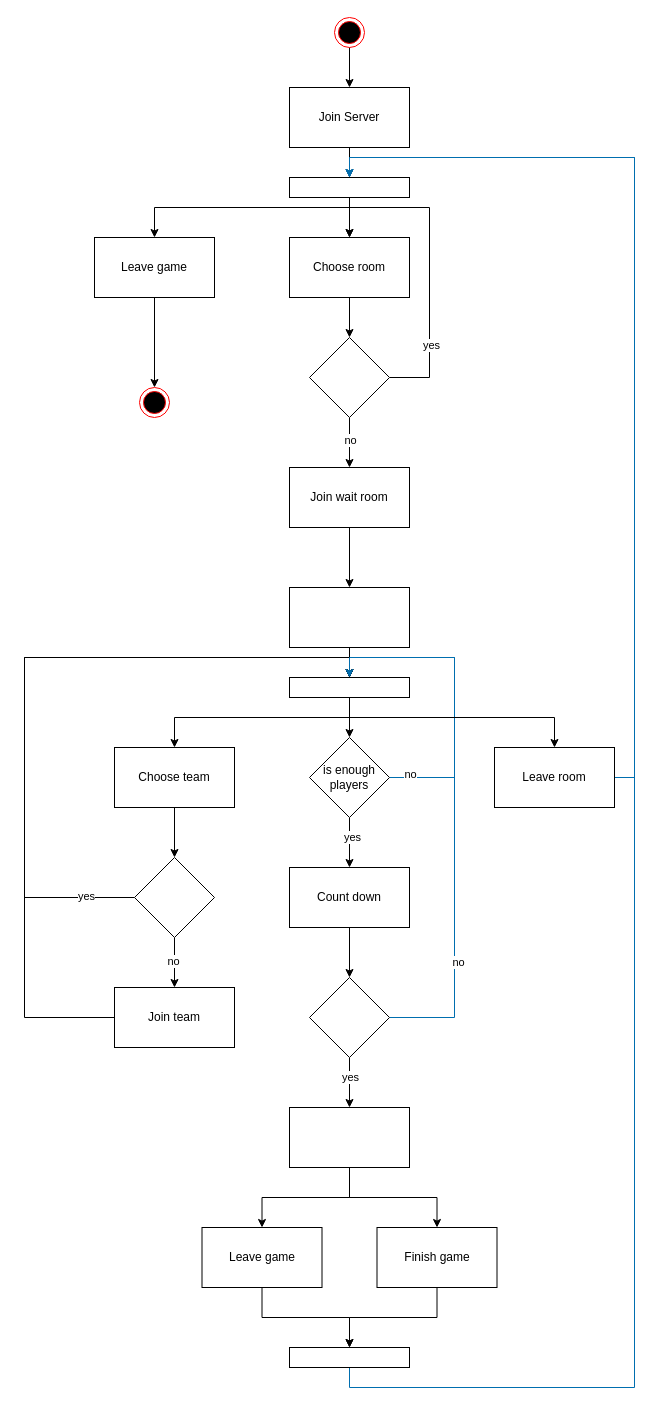
Some shapes in this 660 by 1413 pixel diagram are drawn without their labels. Each missing label, with the box of its shape:
Count finished: (308, 976, 390, 1058)
Join game: (288, 1106, 410, 1168)
room is full: (308, 336, 390, 418)
Team is full: (134, 856, 214, 938)
Wait to enter game: (288, 586, 410, 648)
